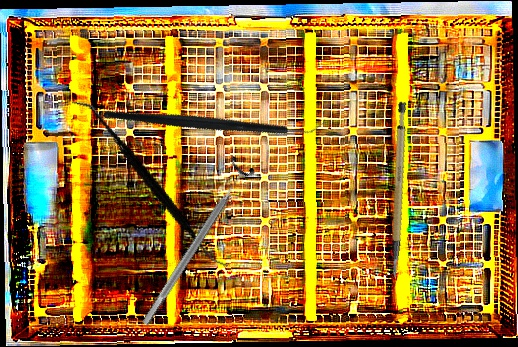Chopper: (102, 35, 327, 204)
Fixation Ring: (132, 155, 257, 332)
Scalpel Handle: (363, 100, 430, 281)
Spatula Surgical: (38, 99, 262, 269)
